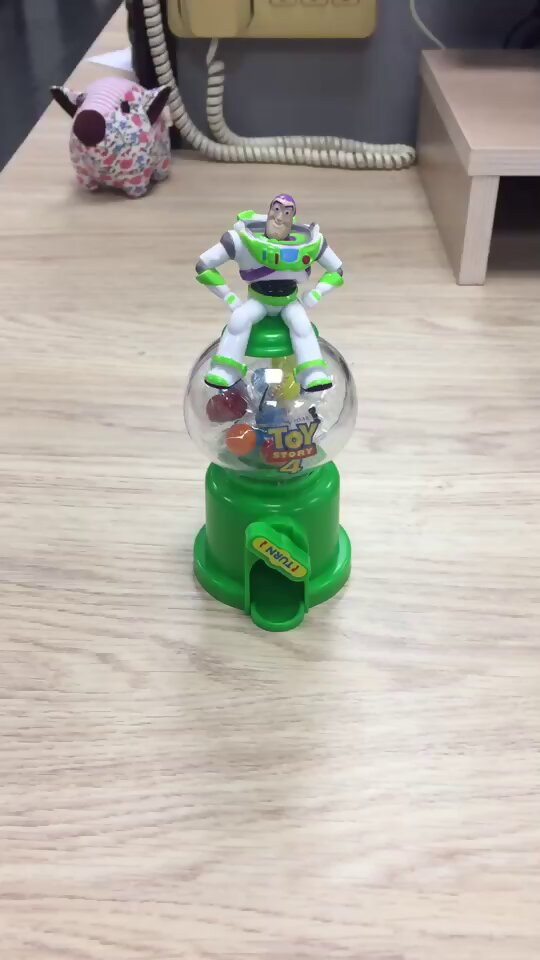buzz: (180, 180, 361, 632)
